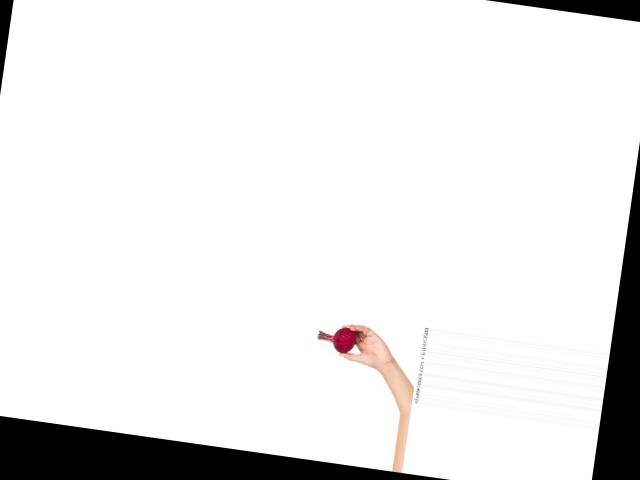beet: (315, 323, 357, 354)
